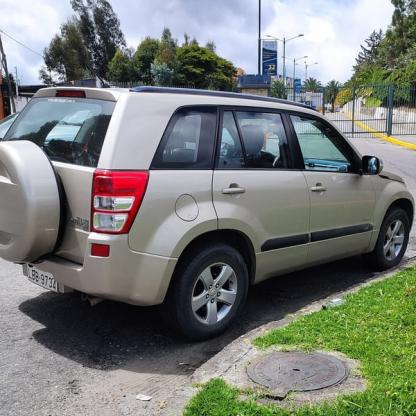Placa: (23, 262, 62, 298)
